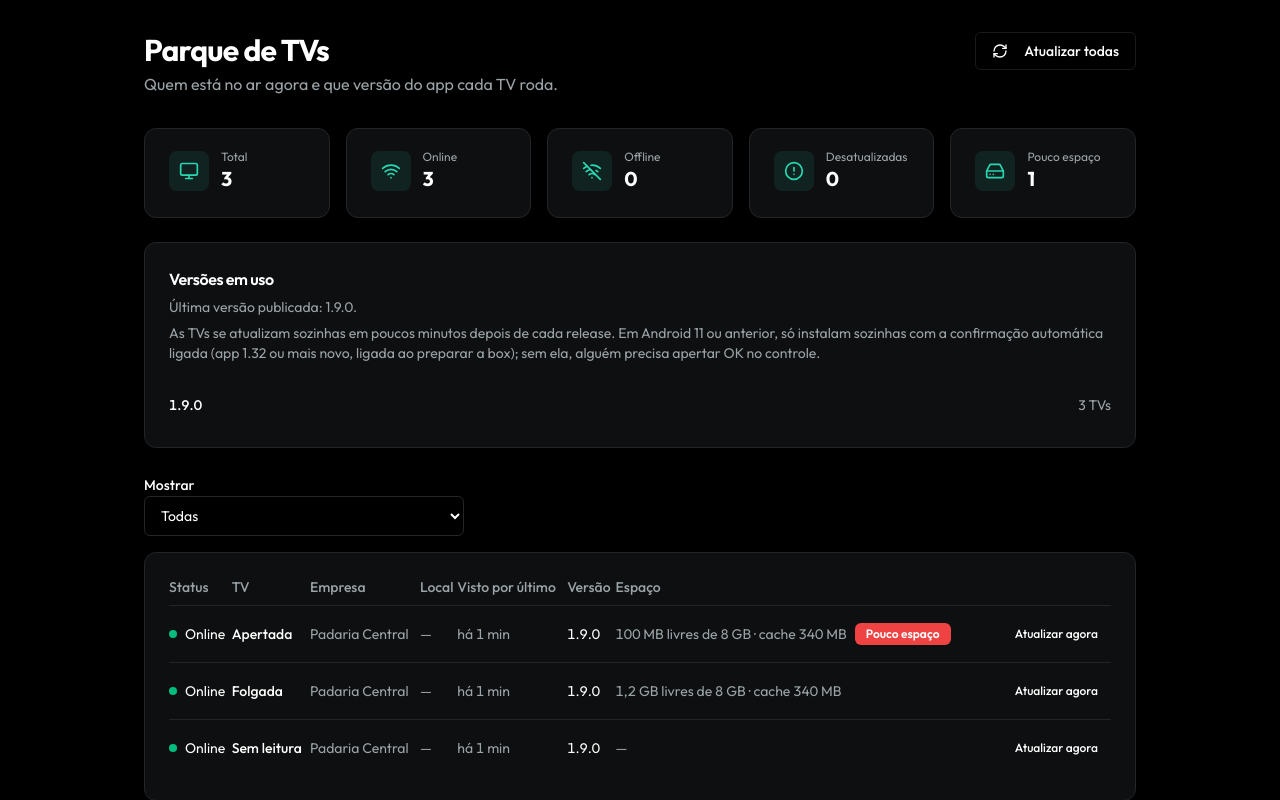
Test: Parque de TVs — espaço em disco › conta as TVs com pouco espaço e filtra por elas
Expected: the link "Apertada" is shown, left=232, top=624, right=292, bottom=644
Select "Pouco espaço" in the dropdown labelled "Mostrar" at (304, 516), box left=144, top=496, right=464, bottom=536
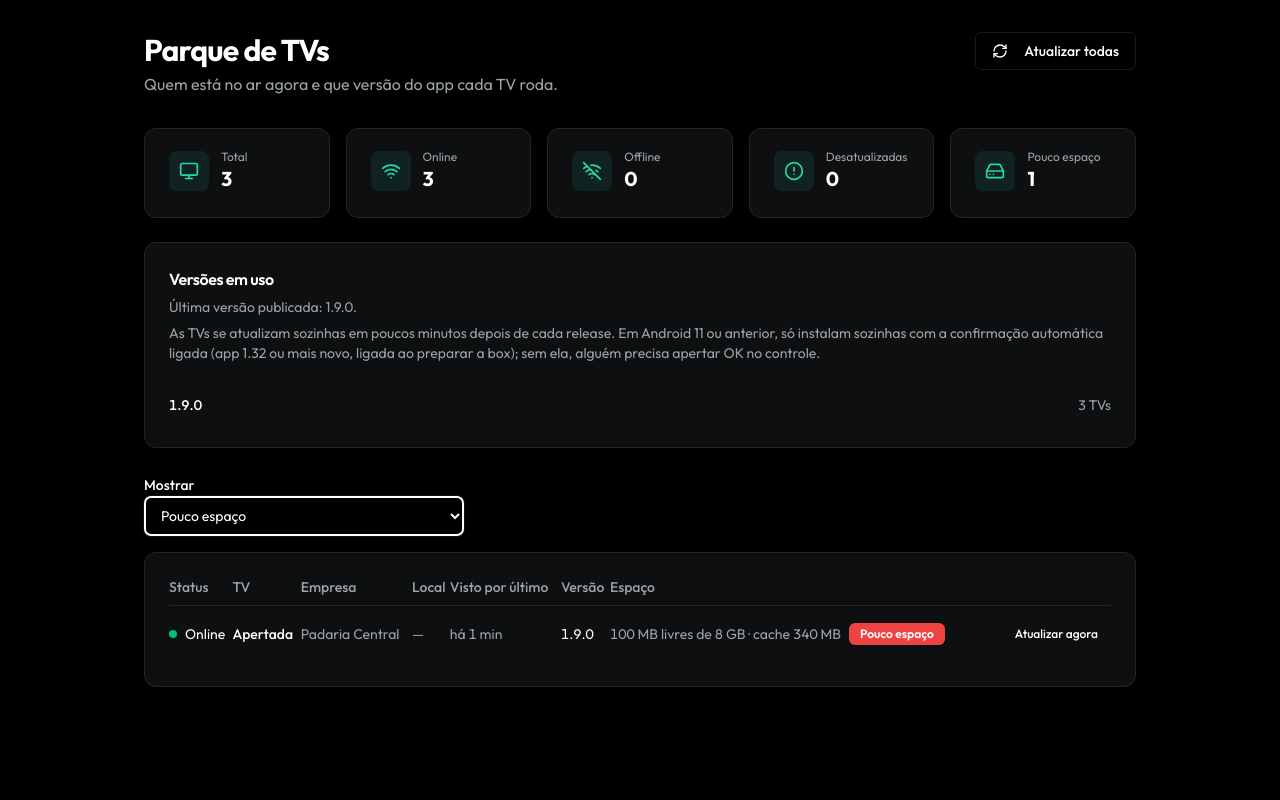
Expected: the link "Apertada" is shown, left=232, top=624, right=293, bottom=644
Expected: the link "Folgada" is gone
Expected: the link "Sem leitura" is gone
